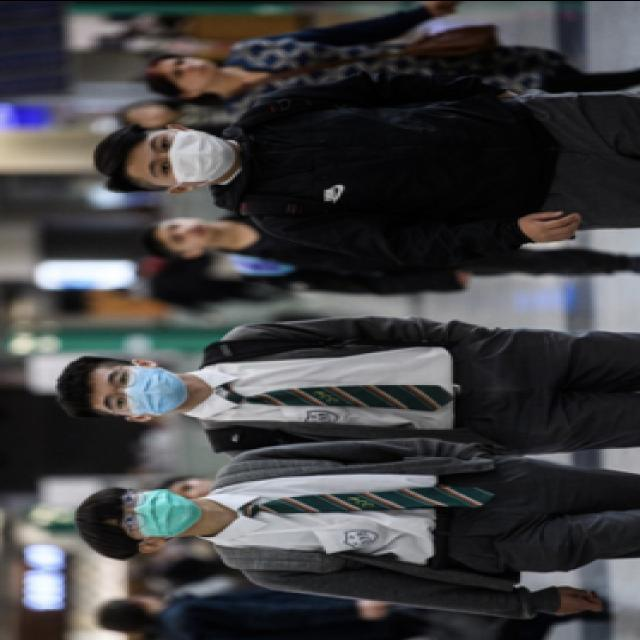with_mask: (144, 126, 238, 184), (110, 485, 198, 541), (99, 364, 190, 414)
without_mask: (163, 214, 213, 248), (163, 54, 216, 86)
